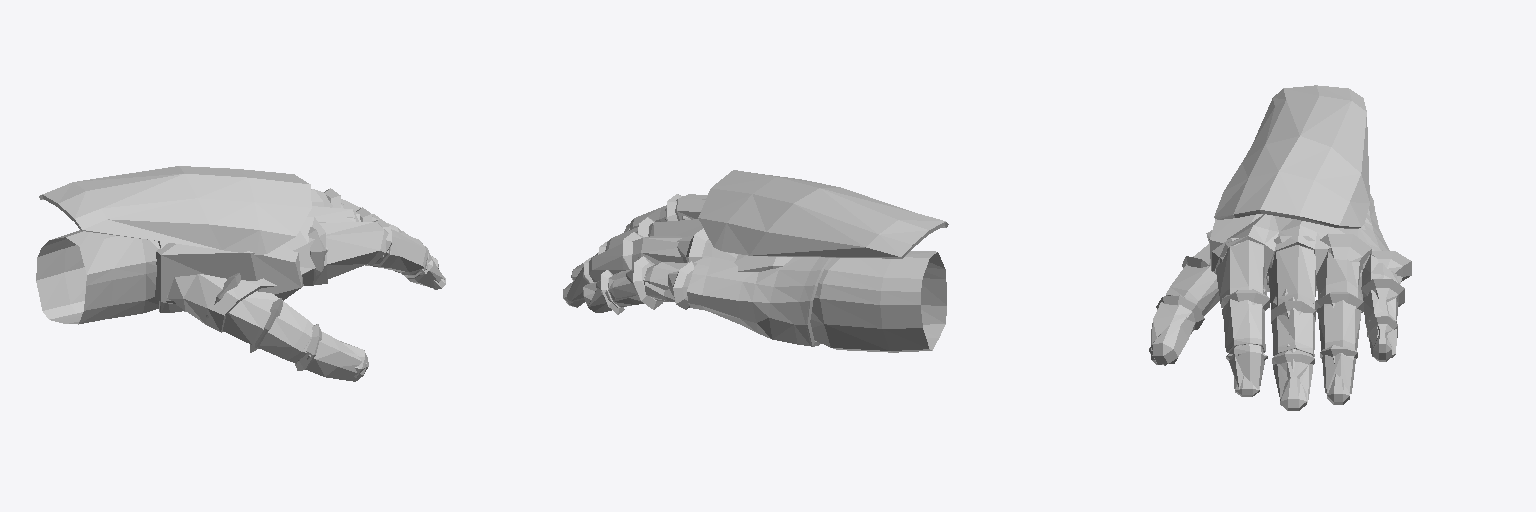
Rendered from handB.obj.
3 renders of one model, left to right at view 1: azimuth 30°, elevation 25°; view 2: azimuth 150°, elevation 25°; view 3: azimuth 270°, elevation 25°, orthographic.
Visible parts, largest first — view 1: IronMan:null_69, IronMan:null_9, IronMan:null_13, IronMan:null_127, IronMan:null_14, IronMan:null_110, IronMan:null_130, IronMan:null_10; view 2: IronMan:null_69, IronMan:null_9, IronMan:null_110, IronMan:null_11, IronMan:null_12, IronMan:null_140, IronMan:null_141, IronMan:null_10, IronMan:null_14, IronMan:null_127, IronMan:null_137, IronMan:null_142; view 3: IronMan:null_69, IronMan:null_14, IronMan:null_10, IronMan:null_11, IronMan:null_110, IronMan:null_13, IronMan:null_130, IronMan:null_12, IronMan:null_136, IronMan:null_137, IronMan:null_141, IronMan:null_127 (+4 smaller).
Part boxes in pixels (x1,y1,x2,y2): IronMan:null_69: (39,166,311,254); IronMan:null_9: (36,230,159,324); IronMan:null_13: (223,291,366,381); IronMan:null_127: (154,243,303,311); IronMan:null_14: (319,222,444,287); IronMan:null_110: (158,217,327,332); IronMan:null_130: (295,324,368,377); IronMan:null_10: (307,206,401,272); IronMan:null_69: (698,170,948,258); IronMan:null_9: (810,251,946,352); IronMan:null_110: (687,241,831,346); IronMan:null_11: (567,236,683,301); IronMan:null_12: (588,262,696,312); IronMan:null_140: (644,261,693,309); IronMan:null_141: (608,256,662,309); IronMan:null_10: (605,219,702,250); IronMan:null_14: (624,194,707,232); IronMan:null_127: (734,254,792,271); IronMan:null_137: (638,228,709,262); IronMan:null_142: (583,270,624,314); IronMan:null_69: (1214,85,1369,228); IronMan:null_14: (1216,240,1266,388); IronMan:null_10: (1268,245,1315,402); IronMan:null_11: (1316,252,1362,393); IronMan:null_110: (1206,194,1389,285); IronMan:null_13: (1151,243,1219,365); IronMan:null_130: (1149,295,1204,364); IronMan:null_12: (1362,250,1397,357); IronMan:null_136: (1272,350,1314,410); IronMan:null_137: (1320,234,1371,293); IronMan:null_141: (1361,279,1404,322); IronMan:null_127: (1210,214,1365,291).
Bounding box in the file's own units: 3.25 × 1.49 × 1.98.